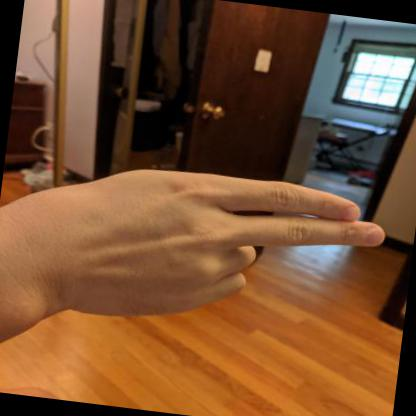H: (22, 169, 384, 316)
